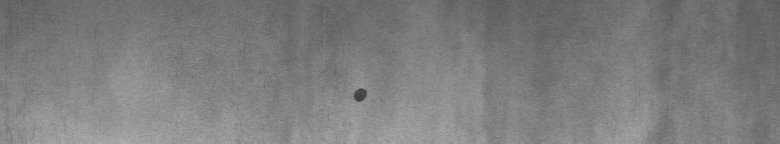fi: (348, 80, 373, 108)
